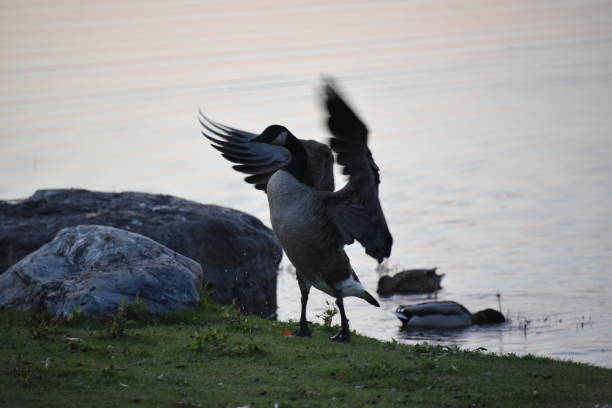goose: (194, 77, 394, 350)
